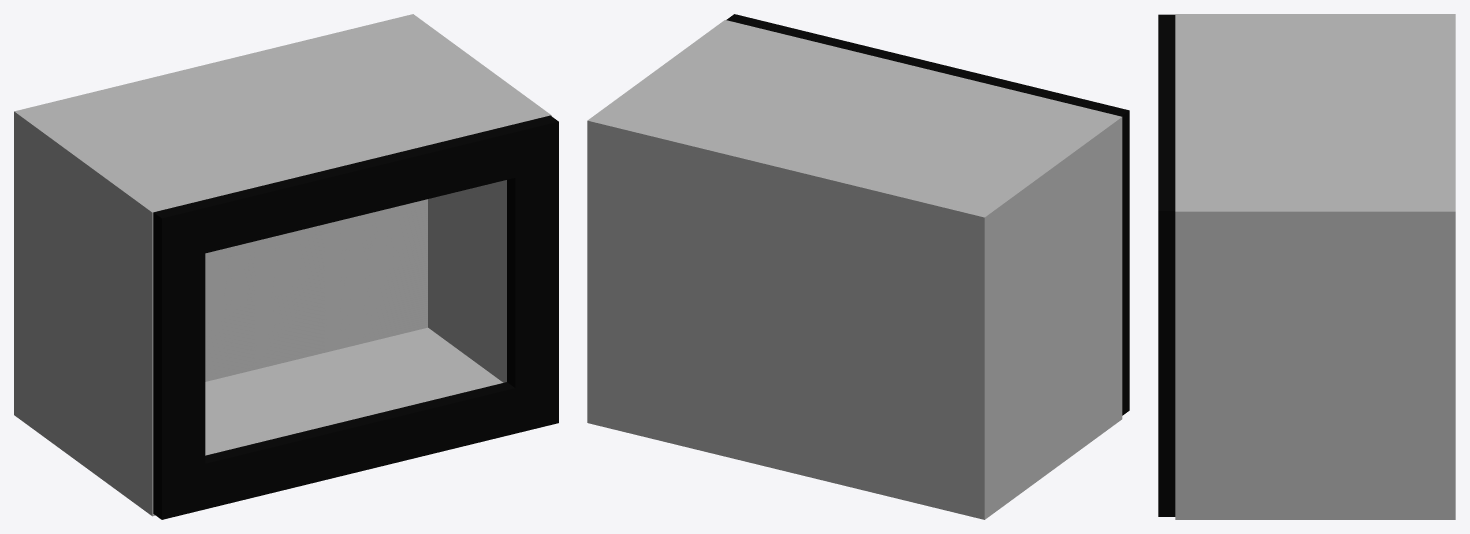
File: dml55.glb
The picture shows the model from 3 angles, left to right: view 1: azimuth 30°, elevation 25°; view 2: azimuth 150°, elevation 25°; view 3: azimuth 270°, elevation 25°; orthographic projection.
Visible parts, largest first — view 1: Box001, Box011; view 2: Box001, Box011; view 3: Box001, Box011.
Boxes of the visible parts, x1,y1,x2,y2 form: Box001: (14, 14, 551, 516); Box011: (153, 115, 558, 519); Box001: (587, 20, 1122, 519); Box011: (726, 14, 1129, 415); Box001: (1175, 14, 1455, 519); Box011: (1158, 14, 1175, 516).
Bounding box in the file's own units: 0.55 × 0.4 × 0.35.
Materials: 2 (1 with a texture image).
